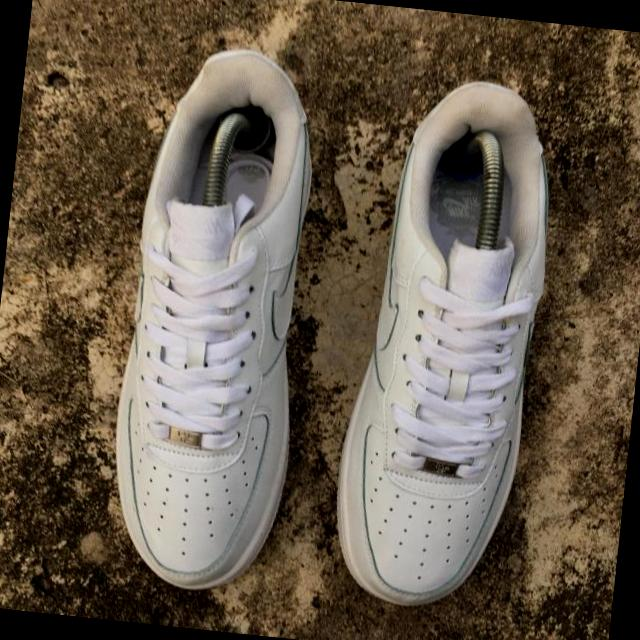nike_fake_airforce: (322, 71, 571, 630), (91, 37, 333, 608)
